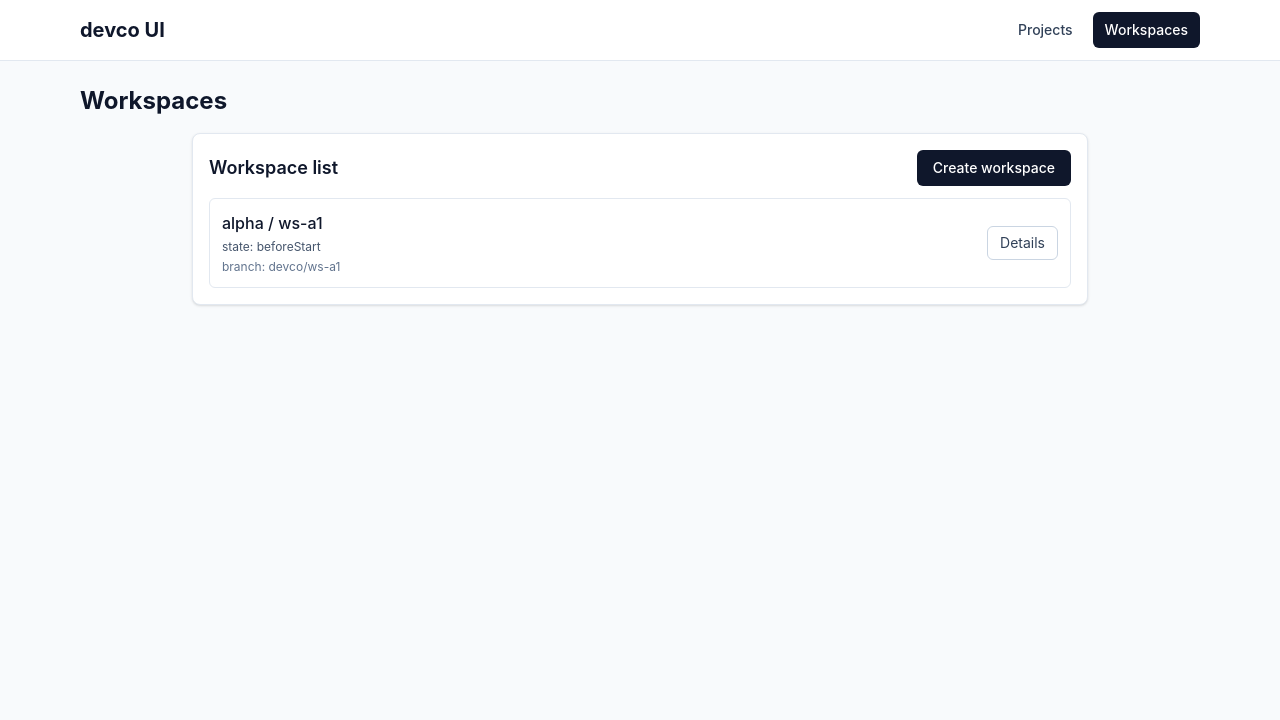
Test case: App browser flows › places create workspace button beside workspace list heading on /workspaces and opens modal
Expected: the text "alpha / ws-a1" is shown, [222, 213, 322, 233]
Click the button "Create workspace" at (994, 168), box [917, 150, 1071, 186]
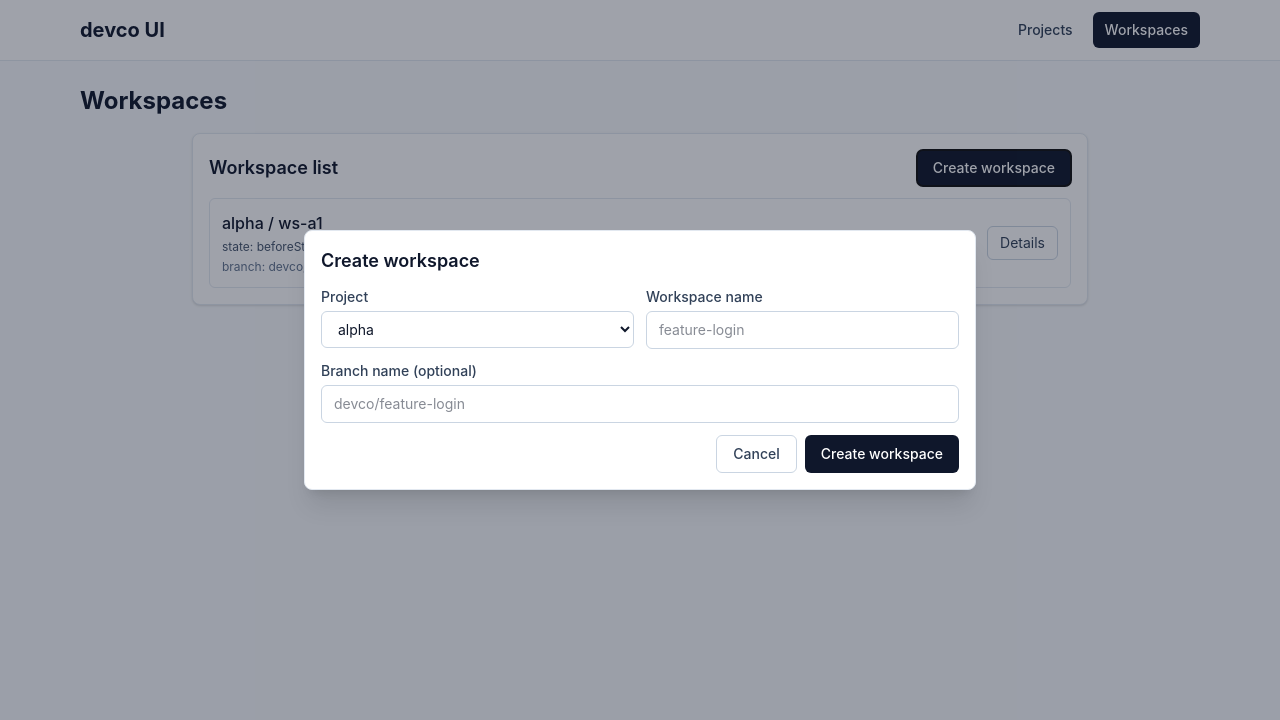
Now the dialog "Create workspace" is shown, box [304, 230, 976, 490]
